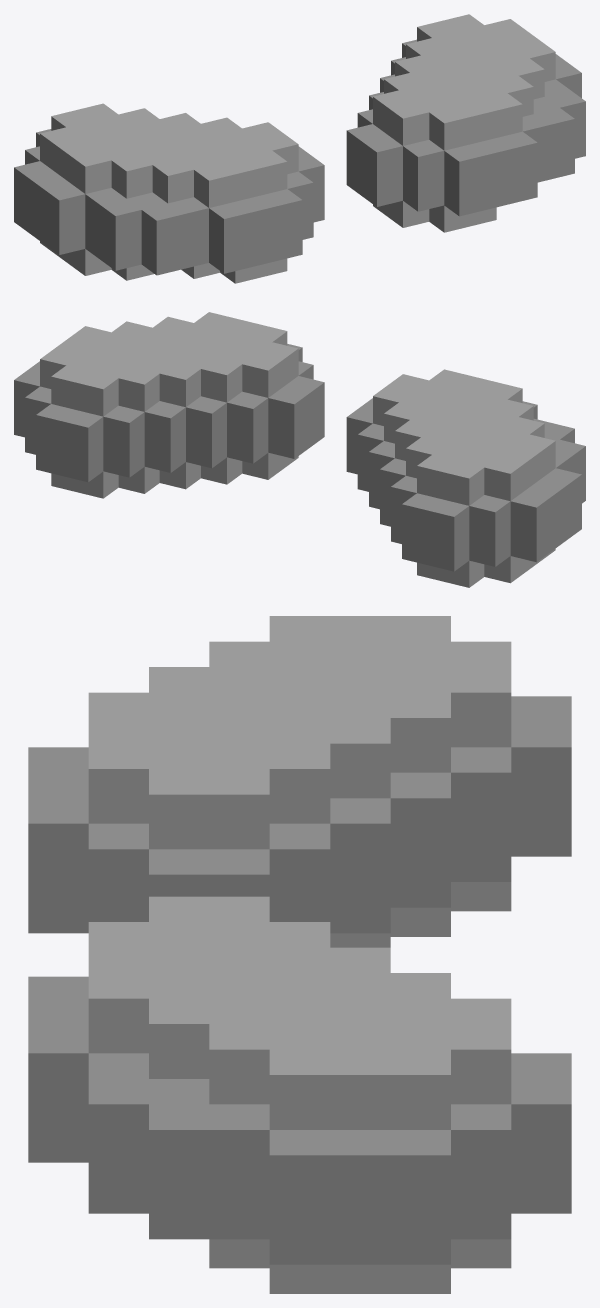
File: Wing.obj
3 views of the same model, one above another, from view 1: azimuth 30°, elevation 25°; view 2: azimuth 150°, elevation 25°; view 3: azimuth 270°, elevation 25° (orthographic). The views are drawn at different scales.
Parts seen in each view (by area): view 1: Untitled.001; view 2: Untitled.001; view 3: Untitled.001.
Boxes of the visible parts, bbox=[...] form: Untitled.001: bbox=[14, 14, 585, 283]; Untitled.001: bbox=[14, 312, 585, 587]; Untitled.001: bbox=[28, 616, 571, 1293].
Bounding box in the file's own units: 3.9 × 0.78 × 1.75.
Materials: 1 (1 with a texture image).
